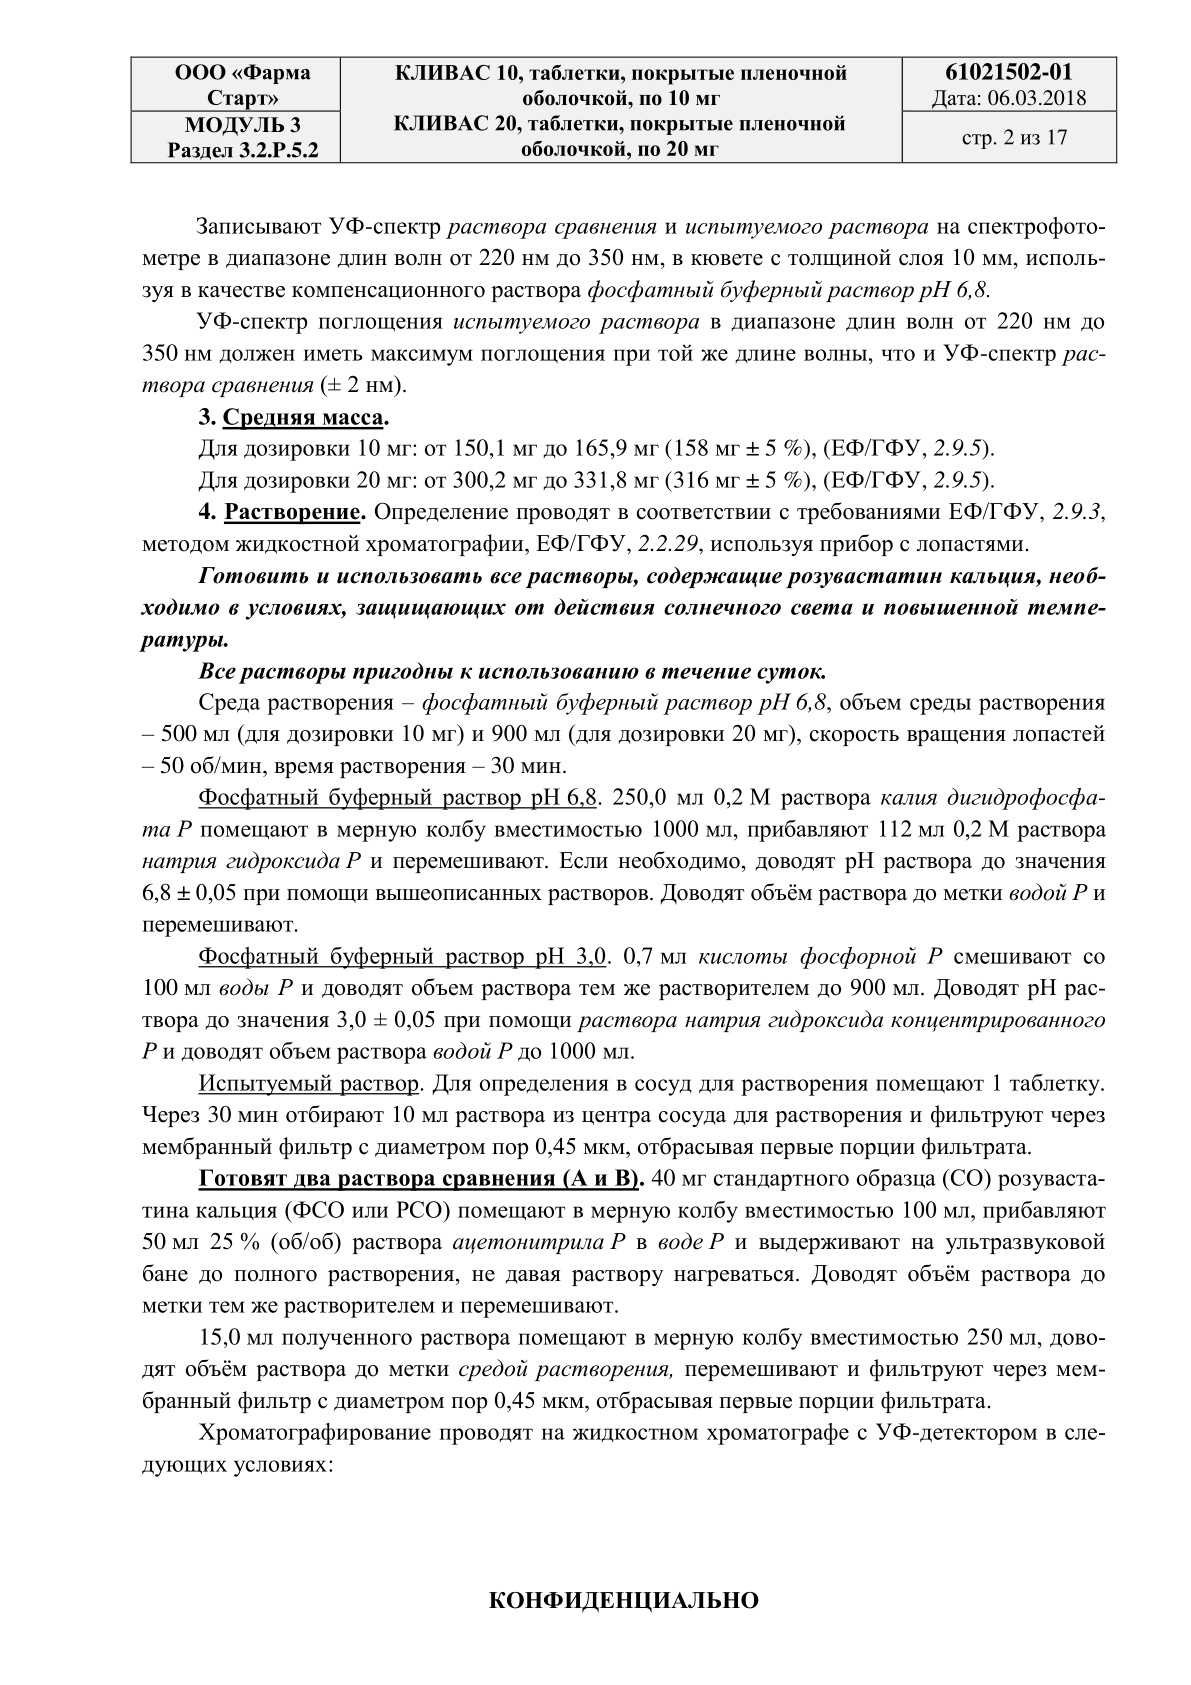merged_cells: (129, 55, 1119, 165)
